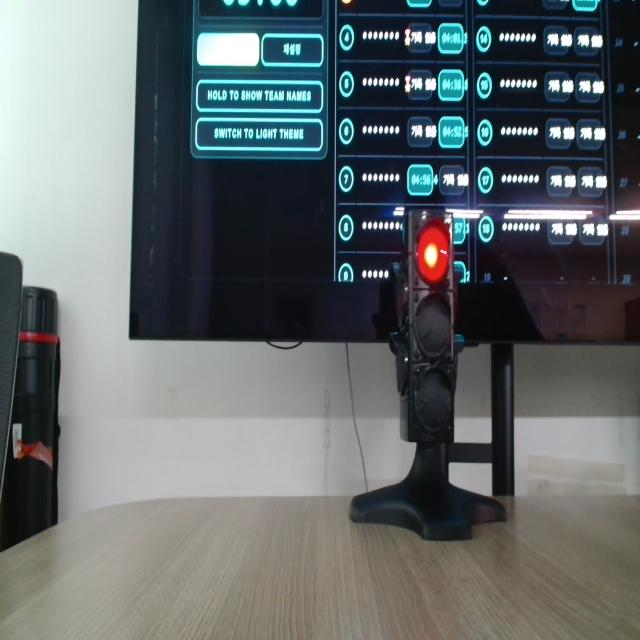red_light: (417, 219, 450, 284)
